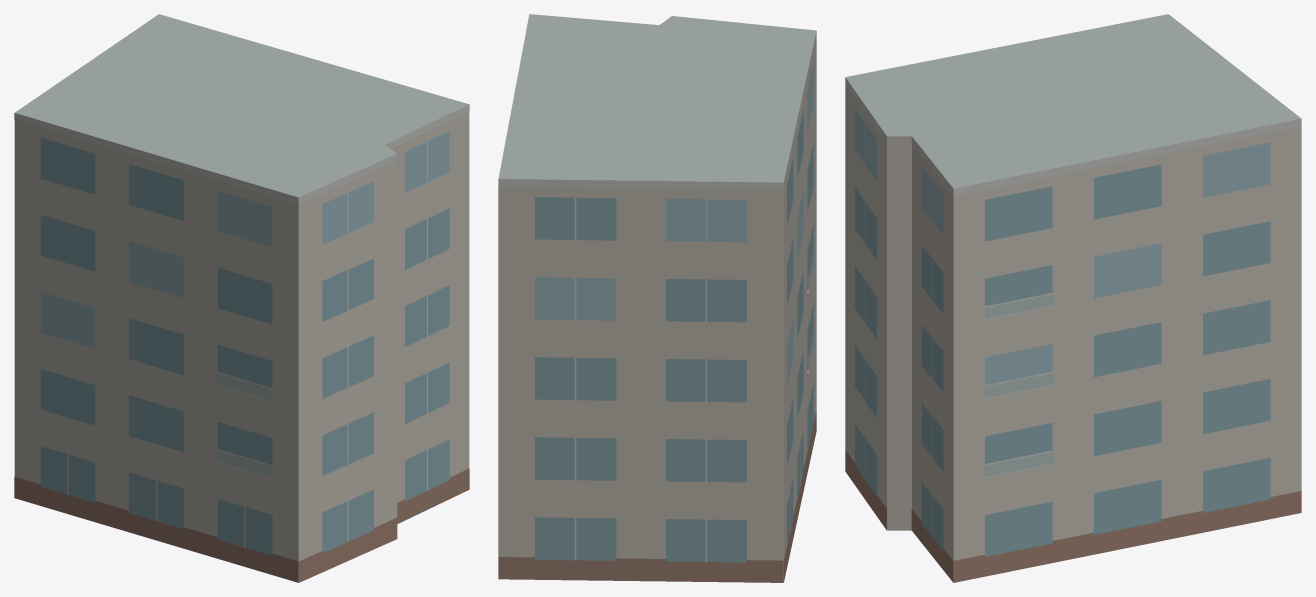
Rendered from survey-upis-32701165.glb.
The picture shows the model from 3 angles, left to right: view 1: azimuth 30°, elevation 25°; view 2: azimuth 150°, elevation 25°; view 3: azimuth 270°, elevation 25°; orthographic projection. The views are drawn at different scales.
Parts seen in each view (by area): view 1: survey-upis-32701165.tmp; view 2: survey-upis-32701165.tmp; view 3: survey-upis-32701165.tmp.
Part boxes in pixels (<box>): survey-upis-32701165.tmp: <box>14,14,469,582</box>; survey-upis-32701165.tmp: <box>498,14,816,582</box>; survey-upis-32701165.tmp: <box>845,14,1301,582</box>.
Size of the model in its own units: 12.46 by 13.1 by 13.75.
